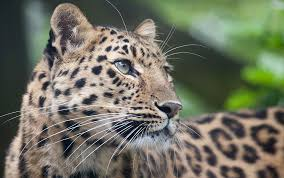amur_leopard: (16, 4, 221, 160)
